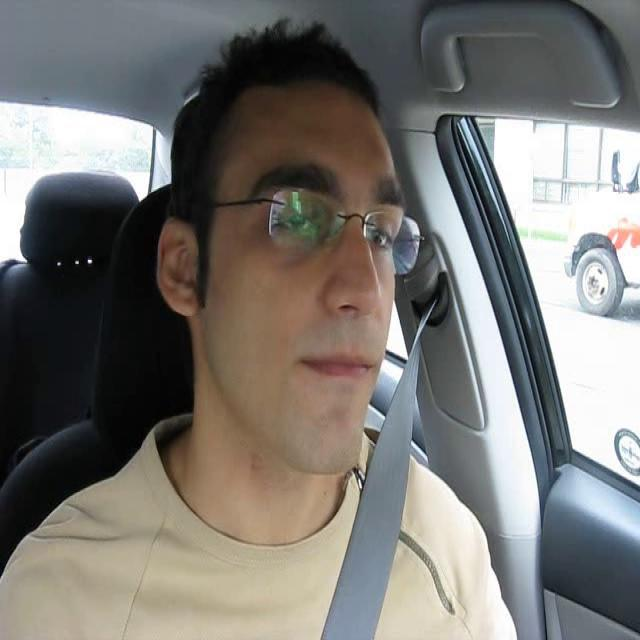close: (297, 346, 379, 386)
